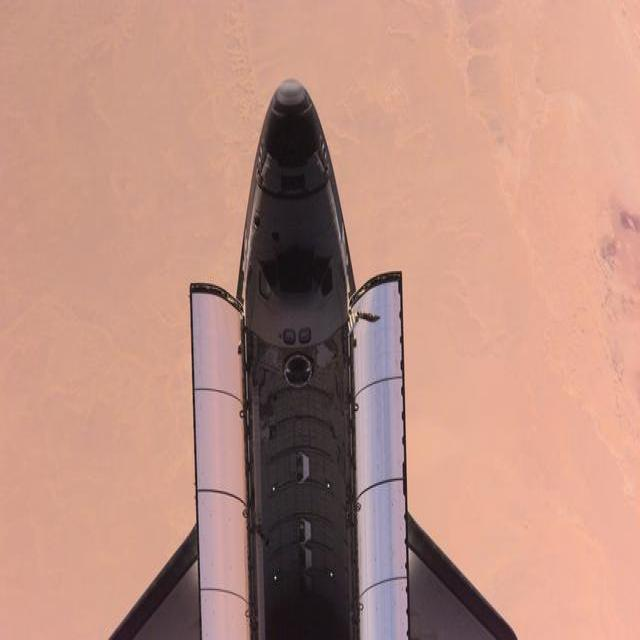satellite: (141, 81, 480, 639)
